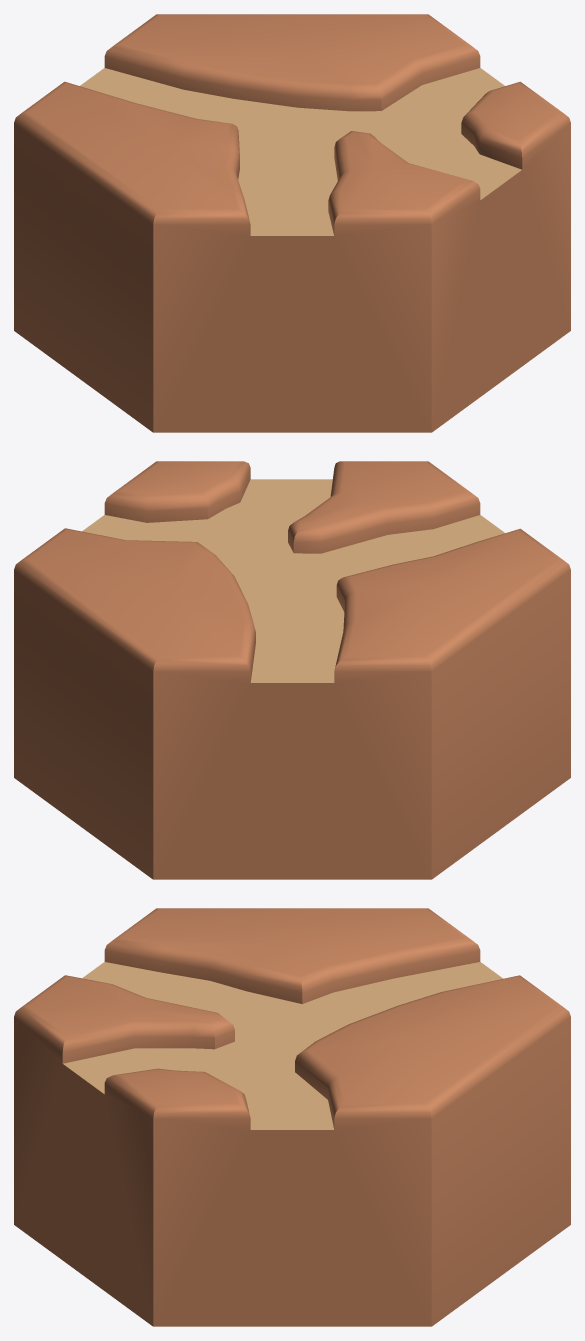
Rendered from hex_rock_roadI.glb.
The picture shows the model from 3 angles, top to bottom: view 1: azimuth 30°, elevation 25°; view 2: azimuth 150°, elevation 25°; view 3: azimuth 270°, elevation 25°; orthographic projection.
Visible parts, largest first — view 1: hex_rock_roadI; view 2: hex_rock_roadI; view 3: hex_rock_roadI.
Boxes of the visible parts, left/top/right/bottom form: hex_rock_roadI: left=14, top=14, right=570, bottom=432; hex_rock_roadI: left=14, top=461, right=570, bottom=879; hex_rock_roadI: left=14, top=908, right=570, bottom=1326.
Bounding box in the file's own units: 3.43 × 1.72 × 3.96.
